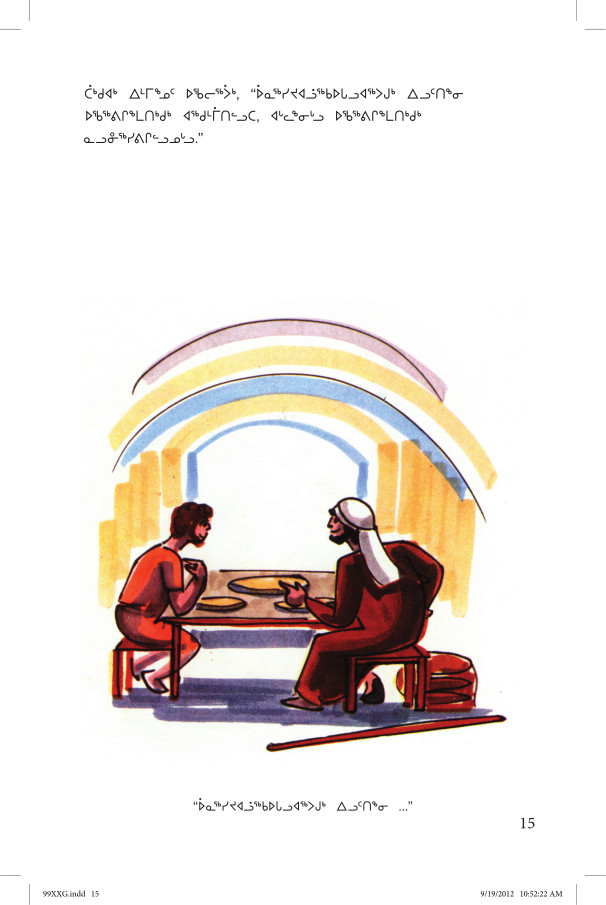inuktitut: (76, 74, 470, 149), (183, 785, 420, 816)
